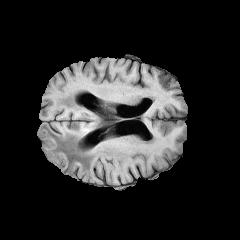glioma: (39, 93, 121, 171)
